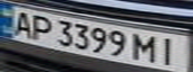3: (51, 18, 75, 47), (69, 21, 90, 52)
9: (106, 28, 130, 58), (87, 25, 109, 55)
A: (6, 8, 36, 38)
I: (154, 35, 184, 66)
M: (130, 32, 160, 63)
P: (24, 12, 57, 42)
